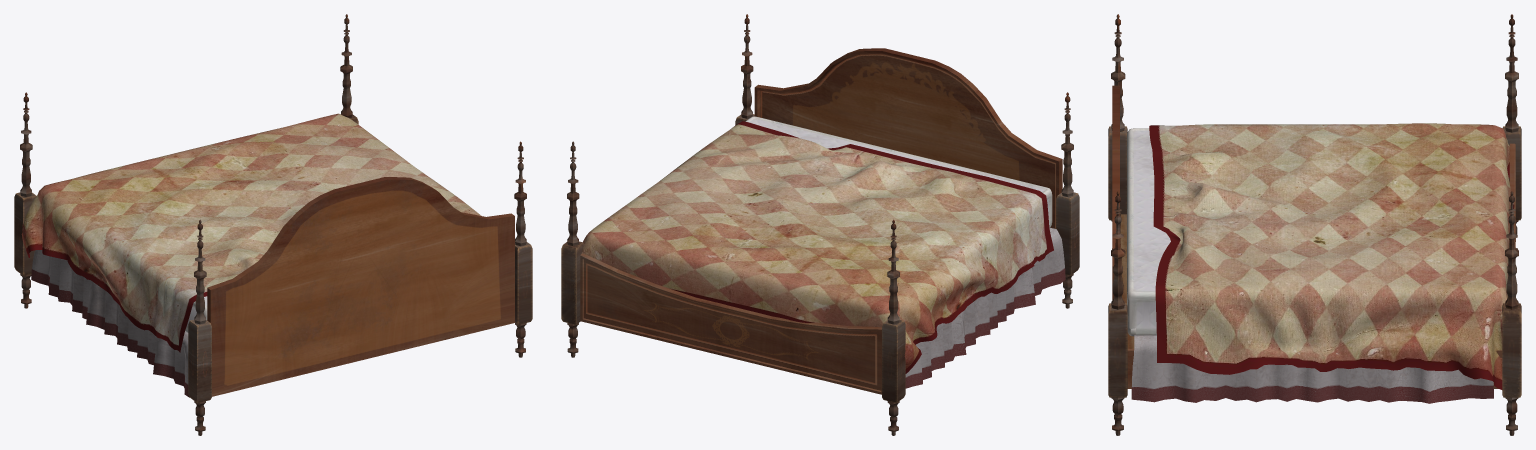
The model's file is OldBed.FBX.
The picture shows the model from 3 angles, left to right: view 1: azimuth 30°, elevation 25°; view 2: azimuth 150°, elevation 25°; view 3: azimuth 270°, elevation 25°; orthographic projection. The views are drawn at different scales.
Visible parts, largest first — view 1: BedFrame, BedSpread, BedCurtain; view 2: BedSpread, BedFrame, BedCurtain, Mattress001; view 3: BedSpread, BedCurtain, BedFrame, Mattress001.
Part boxes in pixels (x1,y1,x2,y2): BedFrame: (14,14,532,435); BedSpread: (21,113,481,352); BedCurtain: (31,250,189,397); BedSpread: (581,121,1053,373); BedFrame: (561,14,1079,435); BedCurtain: (905,227,1065,388); Mattress001: (745,116,1052,227); BedSpread: (1149,123,1514,389); BedCurtain: (1131,335,1493,403); BedFrame: (1108,14,1521,435); Mattress001: (1127,128,1170,336).
Bounding box in the file's own units: 93.7 × 54.34 × 83.46.
